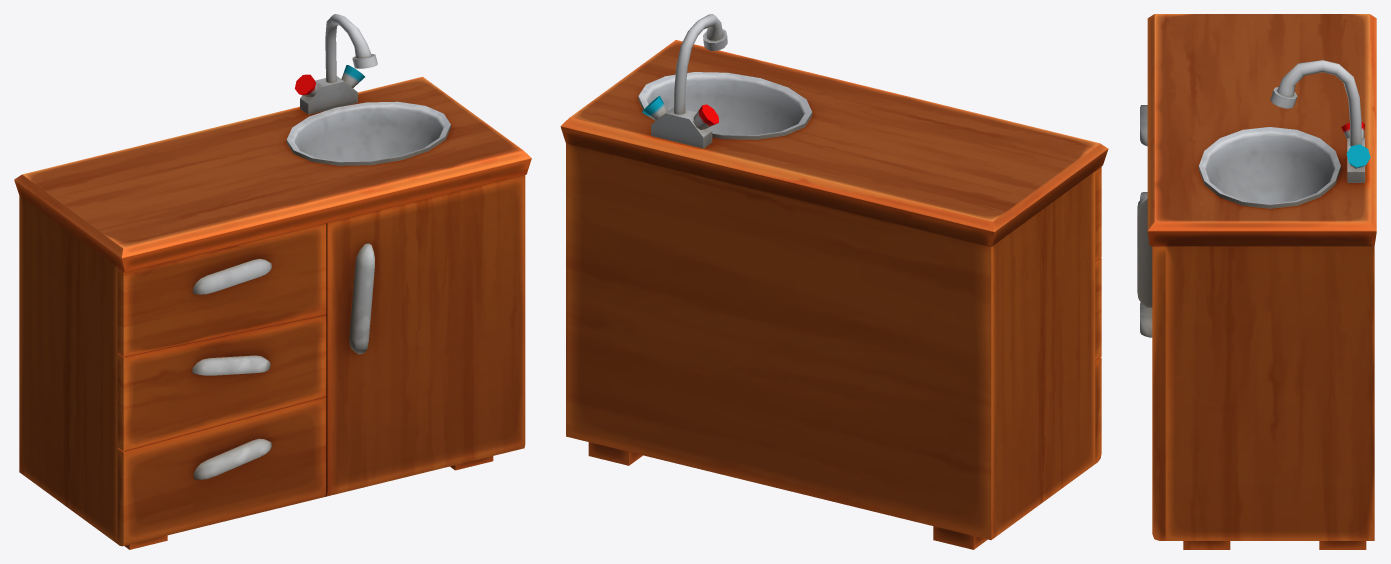
File: KitchenFurniture01_1.FBX
3 renders of one model, left to right at view 1: azimuth 30°, elevation 25°; view 2: azimuth 150°, elevation 25°; view 3: azimuth 270°, elevation 25°, orthographic. The views are drawn at different scales.
Visible parts, largest first — view 1: KitchenFurniture01_1; view 2: KitchenFurniture01_1; view 3: KitchenFurniture01_1.
Boxes of the visible parts, bbox=[...] form: KitchenFurniture01_1: bbox=[14, 14, 531, 549]; KitchenFurniture01_1: bbox=[560, 14, 1108, 549]; KitchenFurniture01_1: bbox=[1137, 14, 1376, 549].
Size of what is drawn, in the model's own units: 1.32 by 1.29 by 0.6296.
